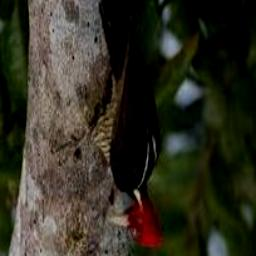Woodpecker: (55, 0, 163, 250)
